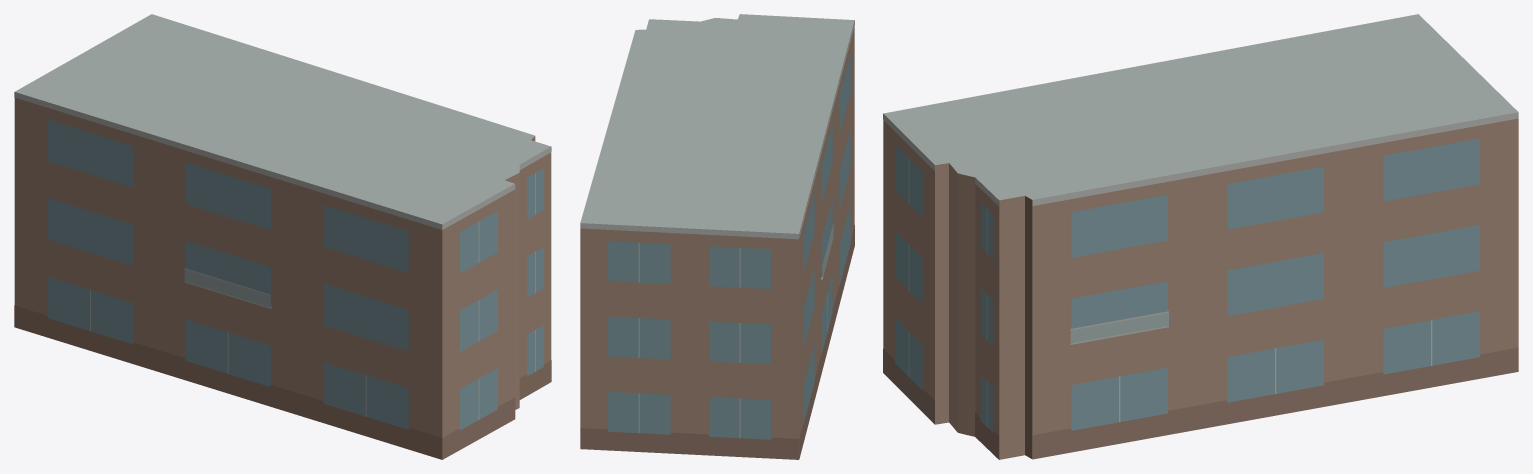
The model's file is survey-upis-32961900.glb.
The picture shows the model from 3 angles, left to right: view 1: azimuth 30°, elevation 25°; view 2: azimuth 150°, elevation 25°; view 3: azimuth 270°, elevation 25°; orthographic projection. The views are drawn at different scales.
Visible parts, largest first — view 1: survey-upis-32961900.tmp; view 2: survey-upis-32961900.tmp; view 3: survey-upis-32961900.tmp.
Part boxes in pixels (box(x1,y1,x2,y2)): survey-upis-32961900.tmp: box(14, 14, 551, 459); survey-upis-32961900.tmp: box(580, 14, 854, 459); survey-upis-32961900.tmp: box(883, 14, 1518, 459).
Size of the model in its own units: 15.72 by 10.2 by 22.65.
